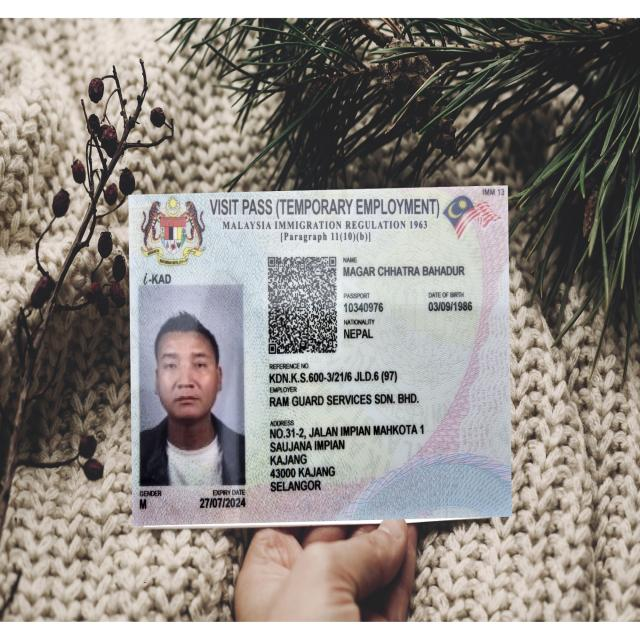ikad-temp: (124, 177, 519, 524)
